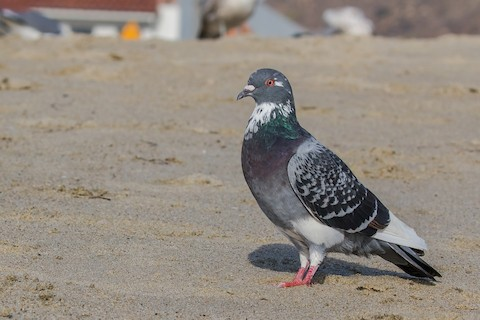pigeon: (232, 66, 448, 288)
